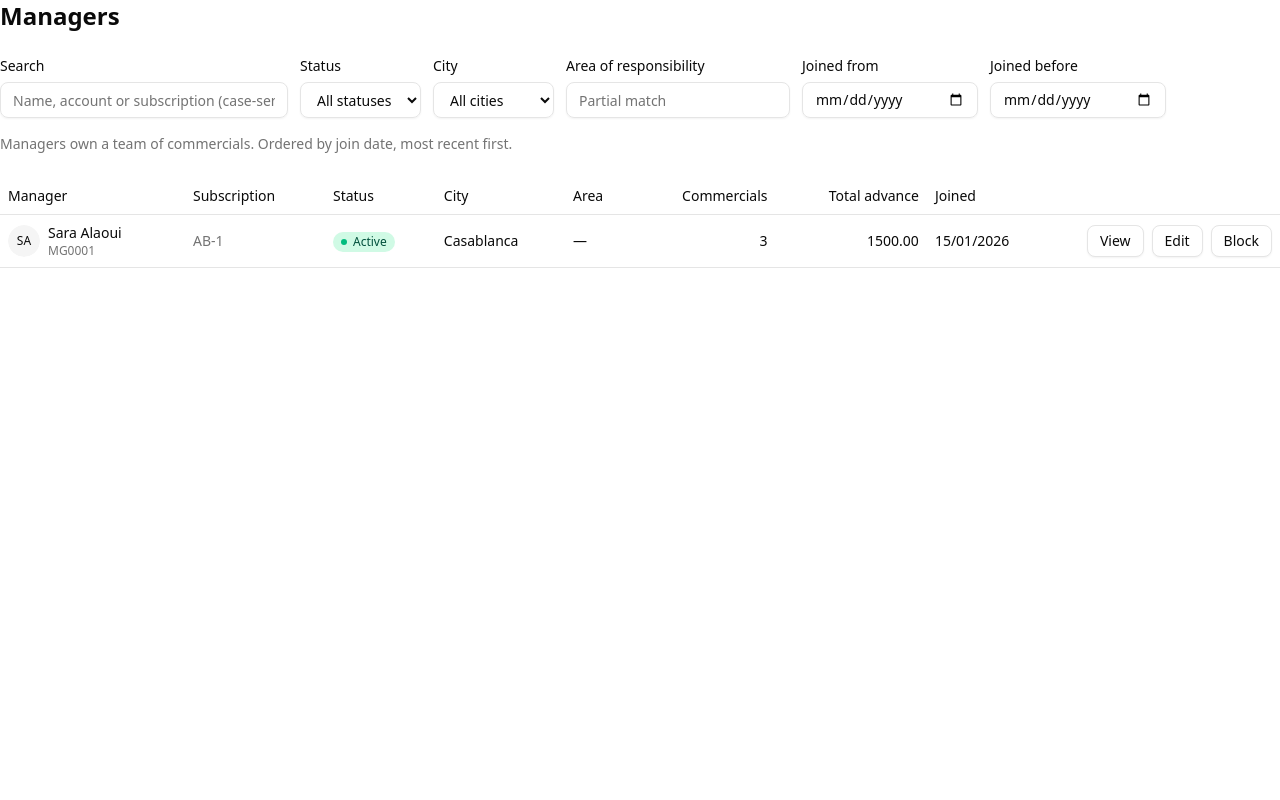
edit › area of responsibility — multi-city selection › starts with no cities selected for a null value
The image size is (1280, 800).
Click the button with aria-label "edit sara alaoui".
click(1177, 241)  # box x1=1152 y1=225 x2=1203 y2=257
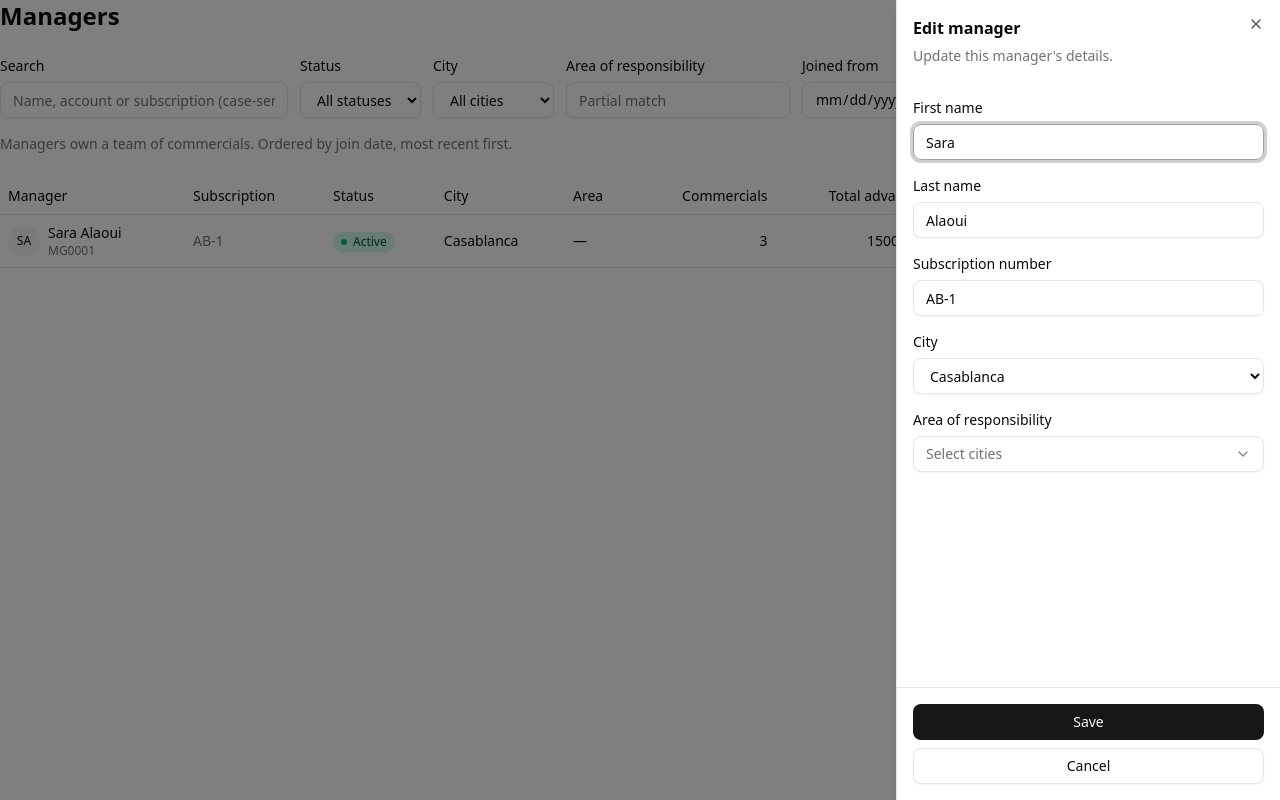
Expected: the text "Select cities" is shown, x1=926 y1=444 x2=1002 y2=464
Click the button named "area of responsibility".
click(964, 454)  # box x1=913 y1=436 x2=1264 y2=472
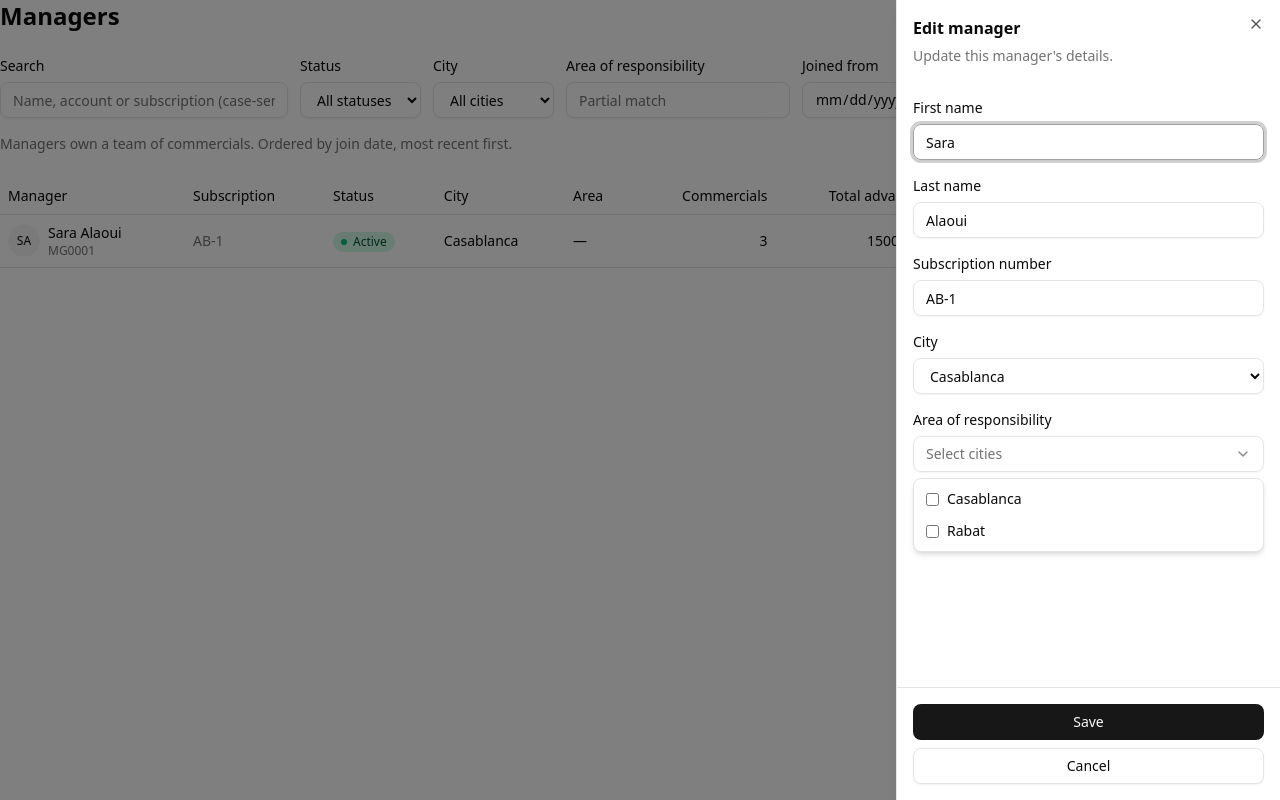
Expected: the checkbox labelled "Casablanca" is not checked, x1=926 y1=492 x2=939 y2=506
Expected: the checkbox labelled "Rabat" is not checked, x1=926 y1=524 x2=939 y2=538
